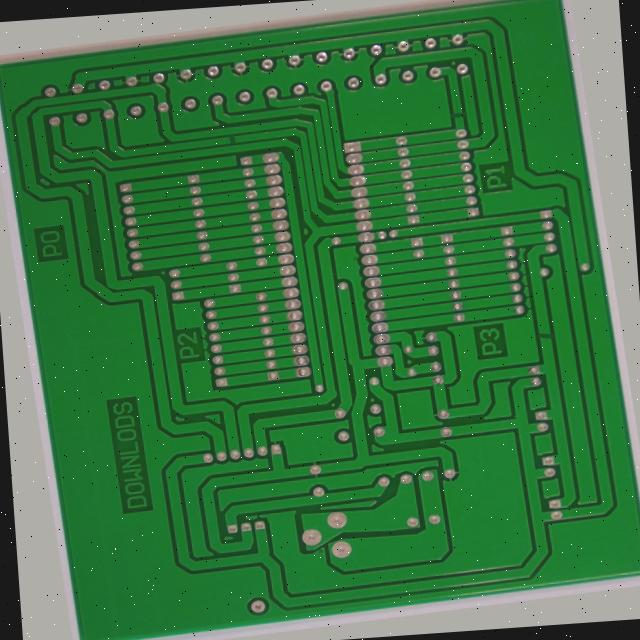open_circuit: (552, 339, 571, 358), (233, 117, 250, 132), (479, 104, 496, 119)
